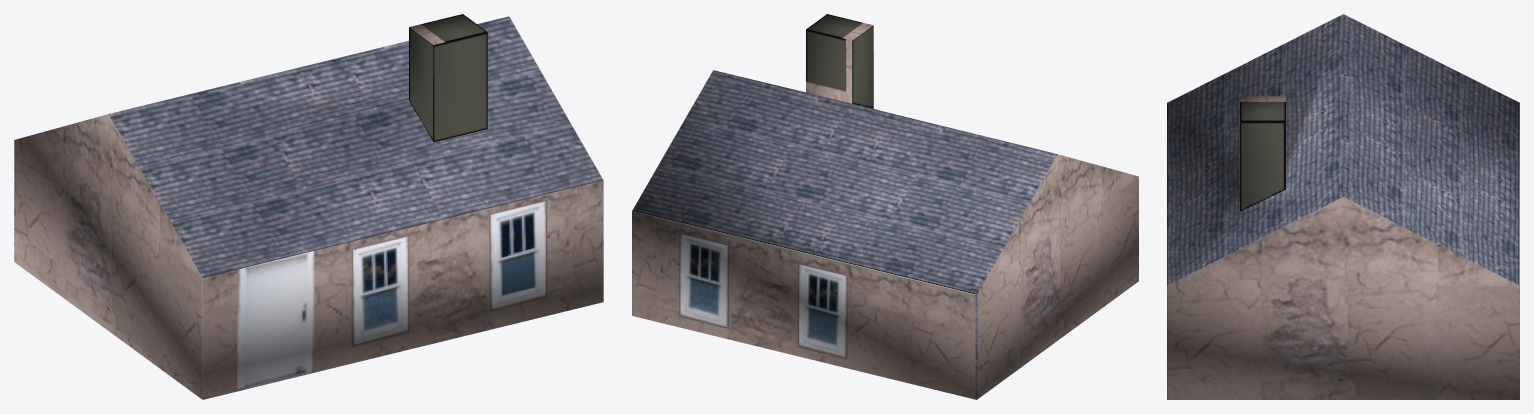
Rendered from house01.obj.
3 views of the same model, side by side, from view 1: azimuth 30°, elevation 25°; view 2: azimuth 150°, elevation 25°; view 3: azimuth 270°, elevation 25° (orthographic). The views are drawn at different scales.
Parts seen in each view (by area): view 1: cube2_copy18; view 2: cube2_copy18; view 3: cube2_copy18.
Part boxes in pixels (bbox=[...]): cube2_copy18: bbox=[14, 14, 603, 399]; cube2_copy18: bbox=[632, 14, 1138, 399]; cube2_copy18: bbox=[1167, 14, 1519, 399].
Size of the model in its own units: 1.08 by 0.6725 by 0.882.
1 material, 1 textured.
